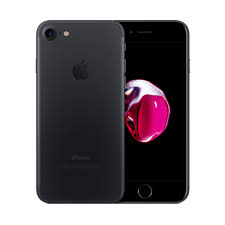iphone: (34, 18, 127, 201)
iphone7: (32, 16, 189, 203)
